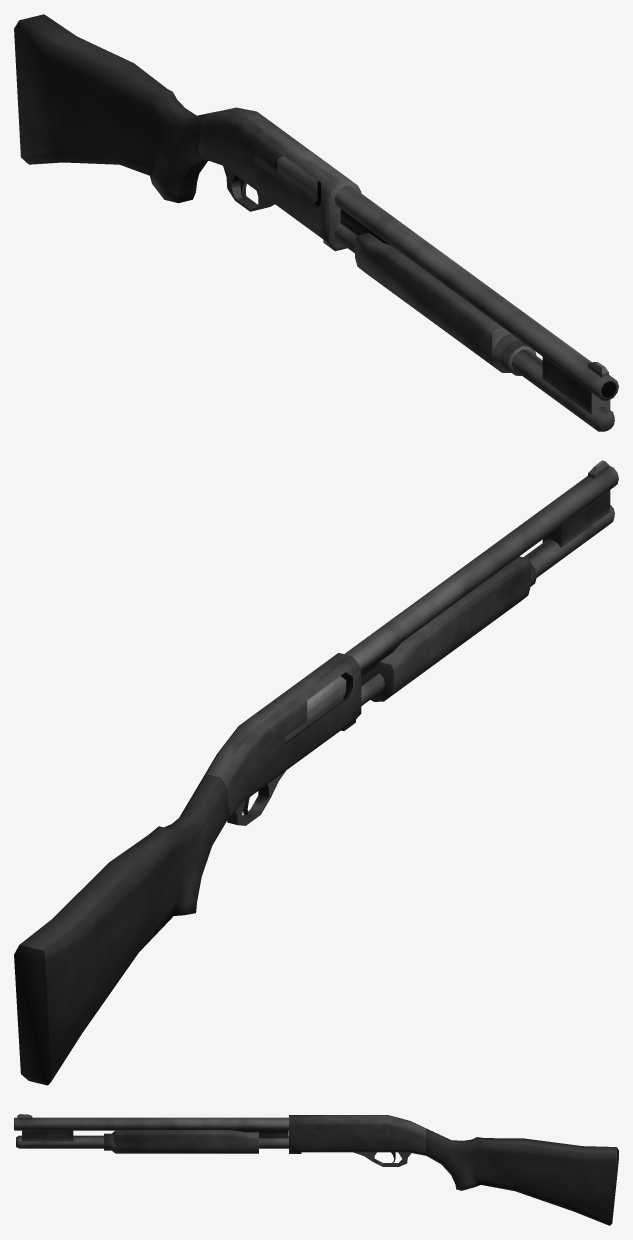
The model's file is Drobovik.FBX.
3 renders of one model, top to bottom at view 1: azimuth 30°, elevation 25°; view 2: azimuth 150°, elevation 25°; view 3: azimuth 270°, elevation 25°, orthographic. The views are drawn at different scales.
Parts seen in each view (by area): view 1: remington; view 2: remington; view 3: remington.
Part boxes in pixels (x1=…): remington: x1=14, y1=14, x2=618, y2=431; remington: x1=14, y1=460, x2=618, y2=1085; remington: x1=14, y1=1114, x2=618, y2=1225.
Size of the model in its own units: 4.34 by 22.31 by 112.
